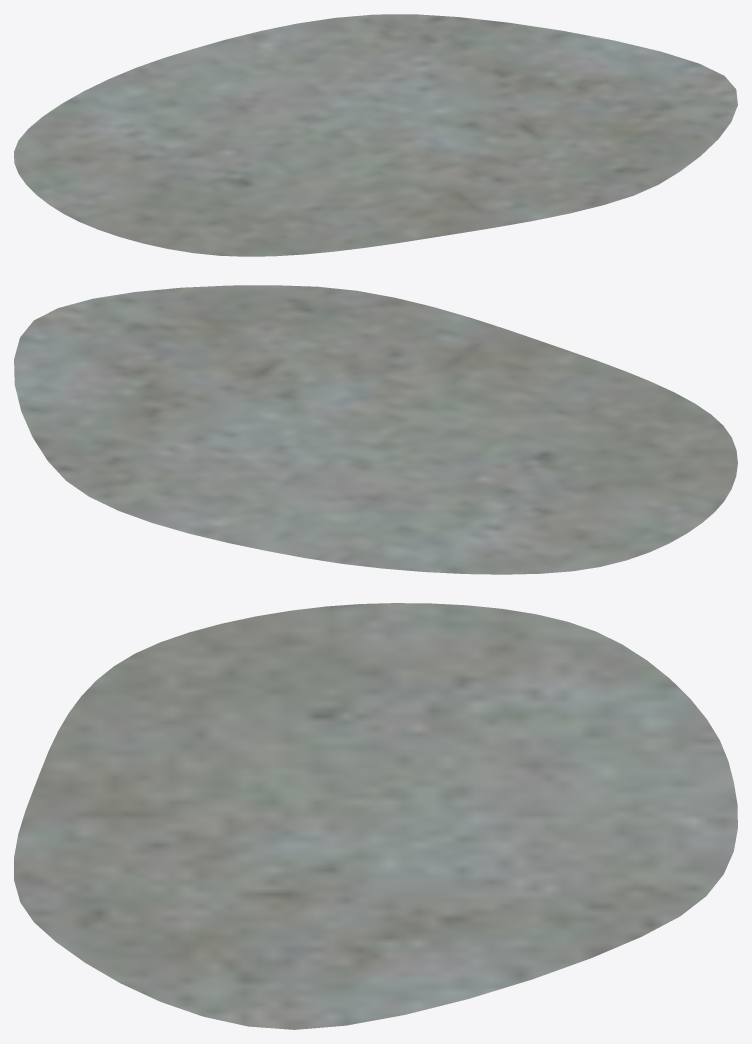
File: stone1.FBX
3 renders of one model, top to bottom at view 1: azimuth 30°, elevation 25°; view 2: azimuth 150°, elevation 25°; view 3: azimuth 270°, elevation 25°, orthographic. The views are drawn at different scales.
Visible parts, largest first — view 1: Line02; view 2: Line02; view 3: Line02.
Boxes of the visible parts, x1,y1,x2,y2 form: Line02: (14, 14, 737, 256); Line02: (14, 285, 737, 574); Line02: (14, 603, 737, 1029).
Bounding box in the file's own units: 47.92 × 2.1e-15 × 34.35.
1 material, 1 textured.
